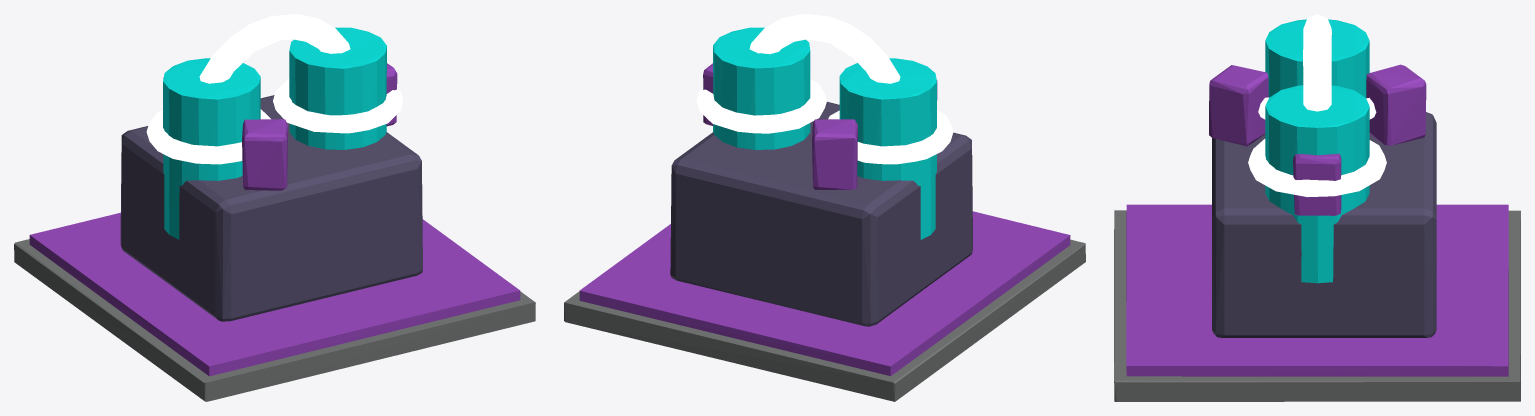
The model's file is SM_Chronolegion_CH_PowerPlant_LOD1.fbx.
The picture shows the model from 3 angles, left to right: view 1: azimuth 30°, elevation 25°; view 2: azimuth 150°, elevation 25°; view 3: azimuth 270°, elevation 25°; orthographic projection. The views are drawn at different scales.
Visible parts, largest first — view 1: LOD01_SM_Chronolegion_CH_PowerPlant; view 2: LOD01_SM_Chronolegion_CH_PowerPlant; view 3: LOD01_SM_Chronolegion_CH_PowerPlant.
Boxes of the visible parts, x1,y1,x2,y2 form: LOD01_SM_Chronolegion_CH_PowerPlant: [14, 14, 535, 401]; LOD01_SM_Chronolegion_CH_PowerPlant: [564, 14, 1085, 401]; LOD01_SM_Chronolegion_CH_PowerPlant: [1114, 14, 1520, 401].
Bounding box in the file's own units: 599 × 598 × 475.
